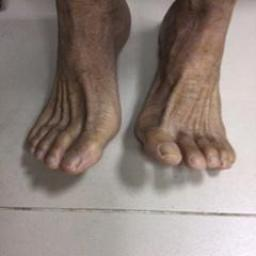Front View -Both Feet-: (18, 2, 242, 194)
